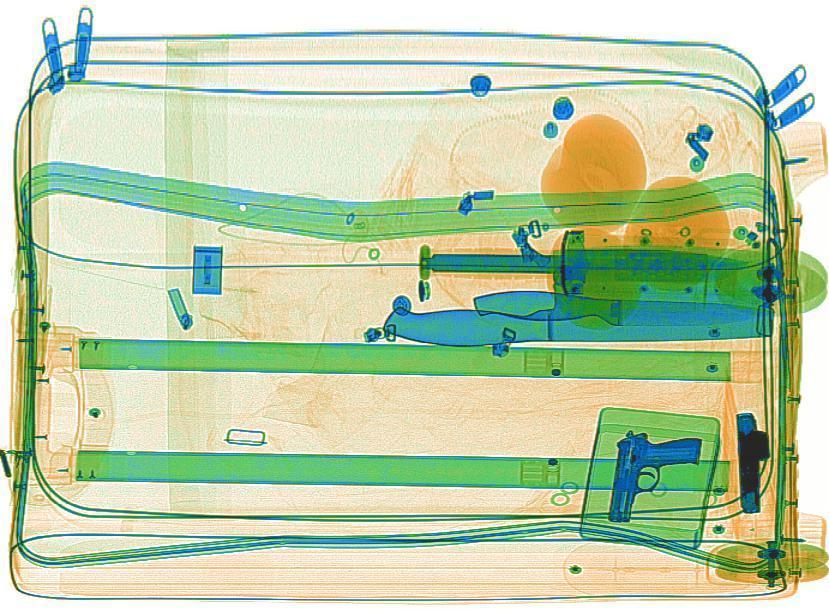Gun: (599, 427, 701, 528), (728, 410, 772, 513)
Knife: (380, 244, 774, 346), (420, 248, 754, 282), (471, 290, 762, 324)
